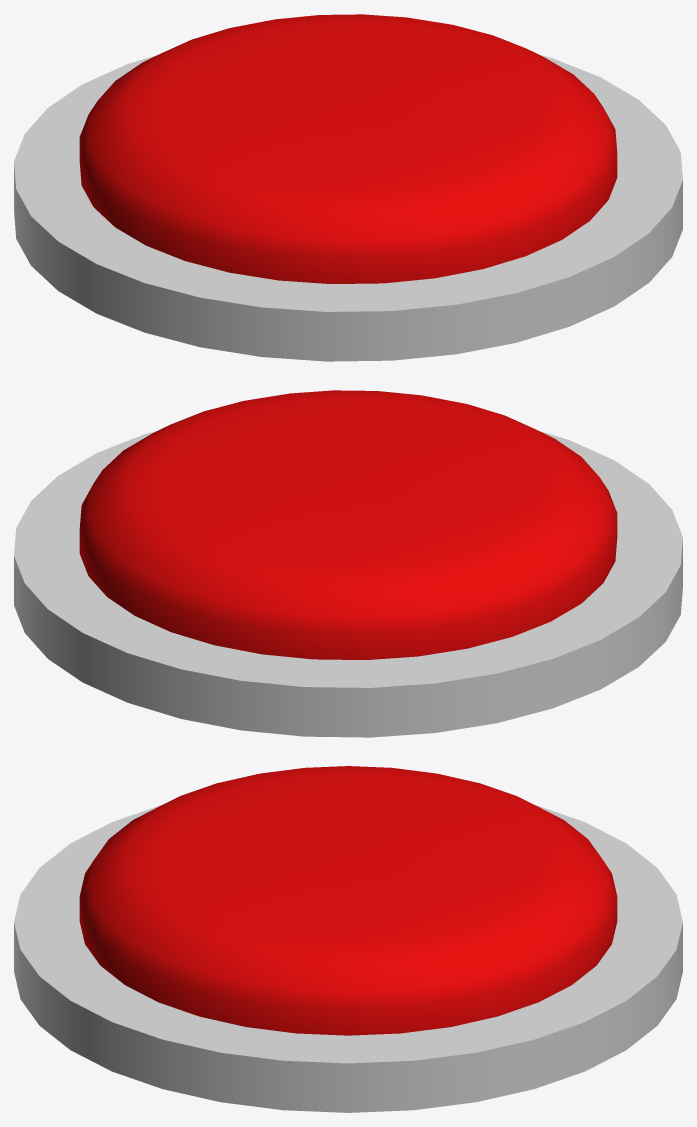
File: Push Button.fbx
3 renders of one model, top to bottom at view 1: azimuth 30°, elevation 25°; view 2: azimuth 150°, elevation 25°; view 3: azimuth 270°, elevation 25°, orthographic.
Visible parts, largest first — view 1: Button Top, Button Bottom; view 2: Button Top, Button Bottom; view 3: Button Top, Button Bottom.
Boxes of the visible parts, <box> form: Button Top: <box>79,14,617,283</box>; Button Bottom: <box>14,55,682,361</box>; Button Top: <box>79,390,617,659</box>; Button Bottom: <box>14,431,682,737</box>; Button Top: <box>79,766,617,1035</box>; Button Bottom: <box>14,804,682,1112</box>.
Size of the model in its own units: 2.49 by 0.4794 by 2.49.
